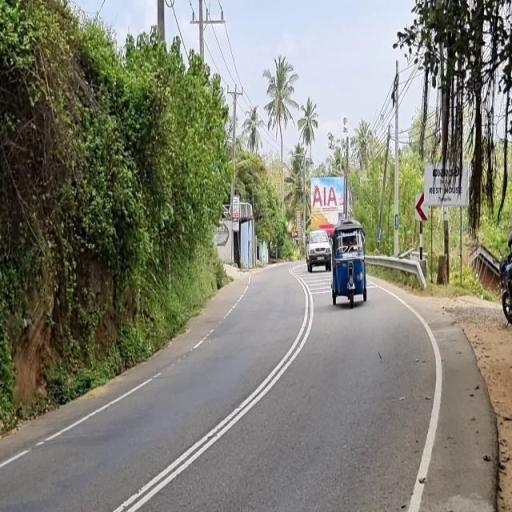double_white_line: (108, 269, 314, 512)
